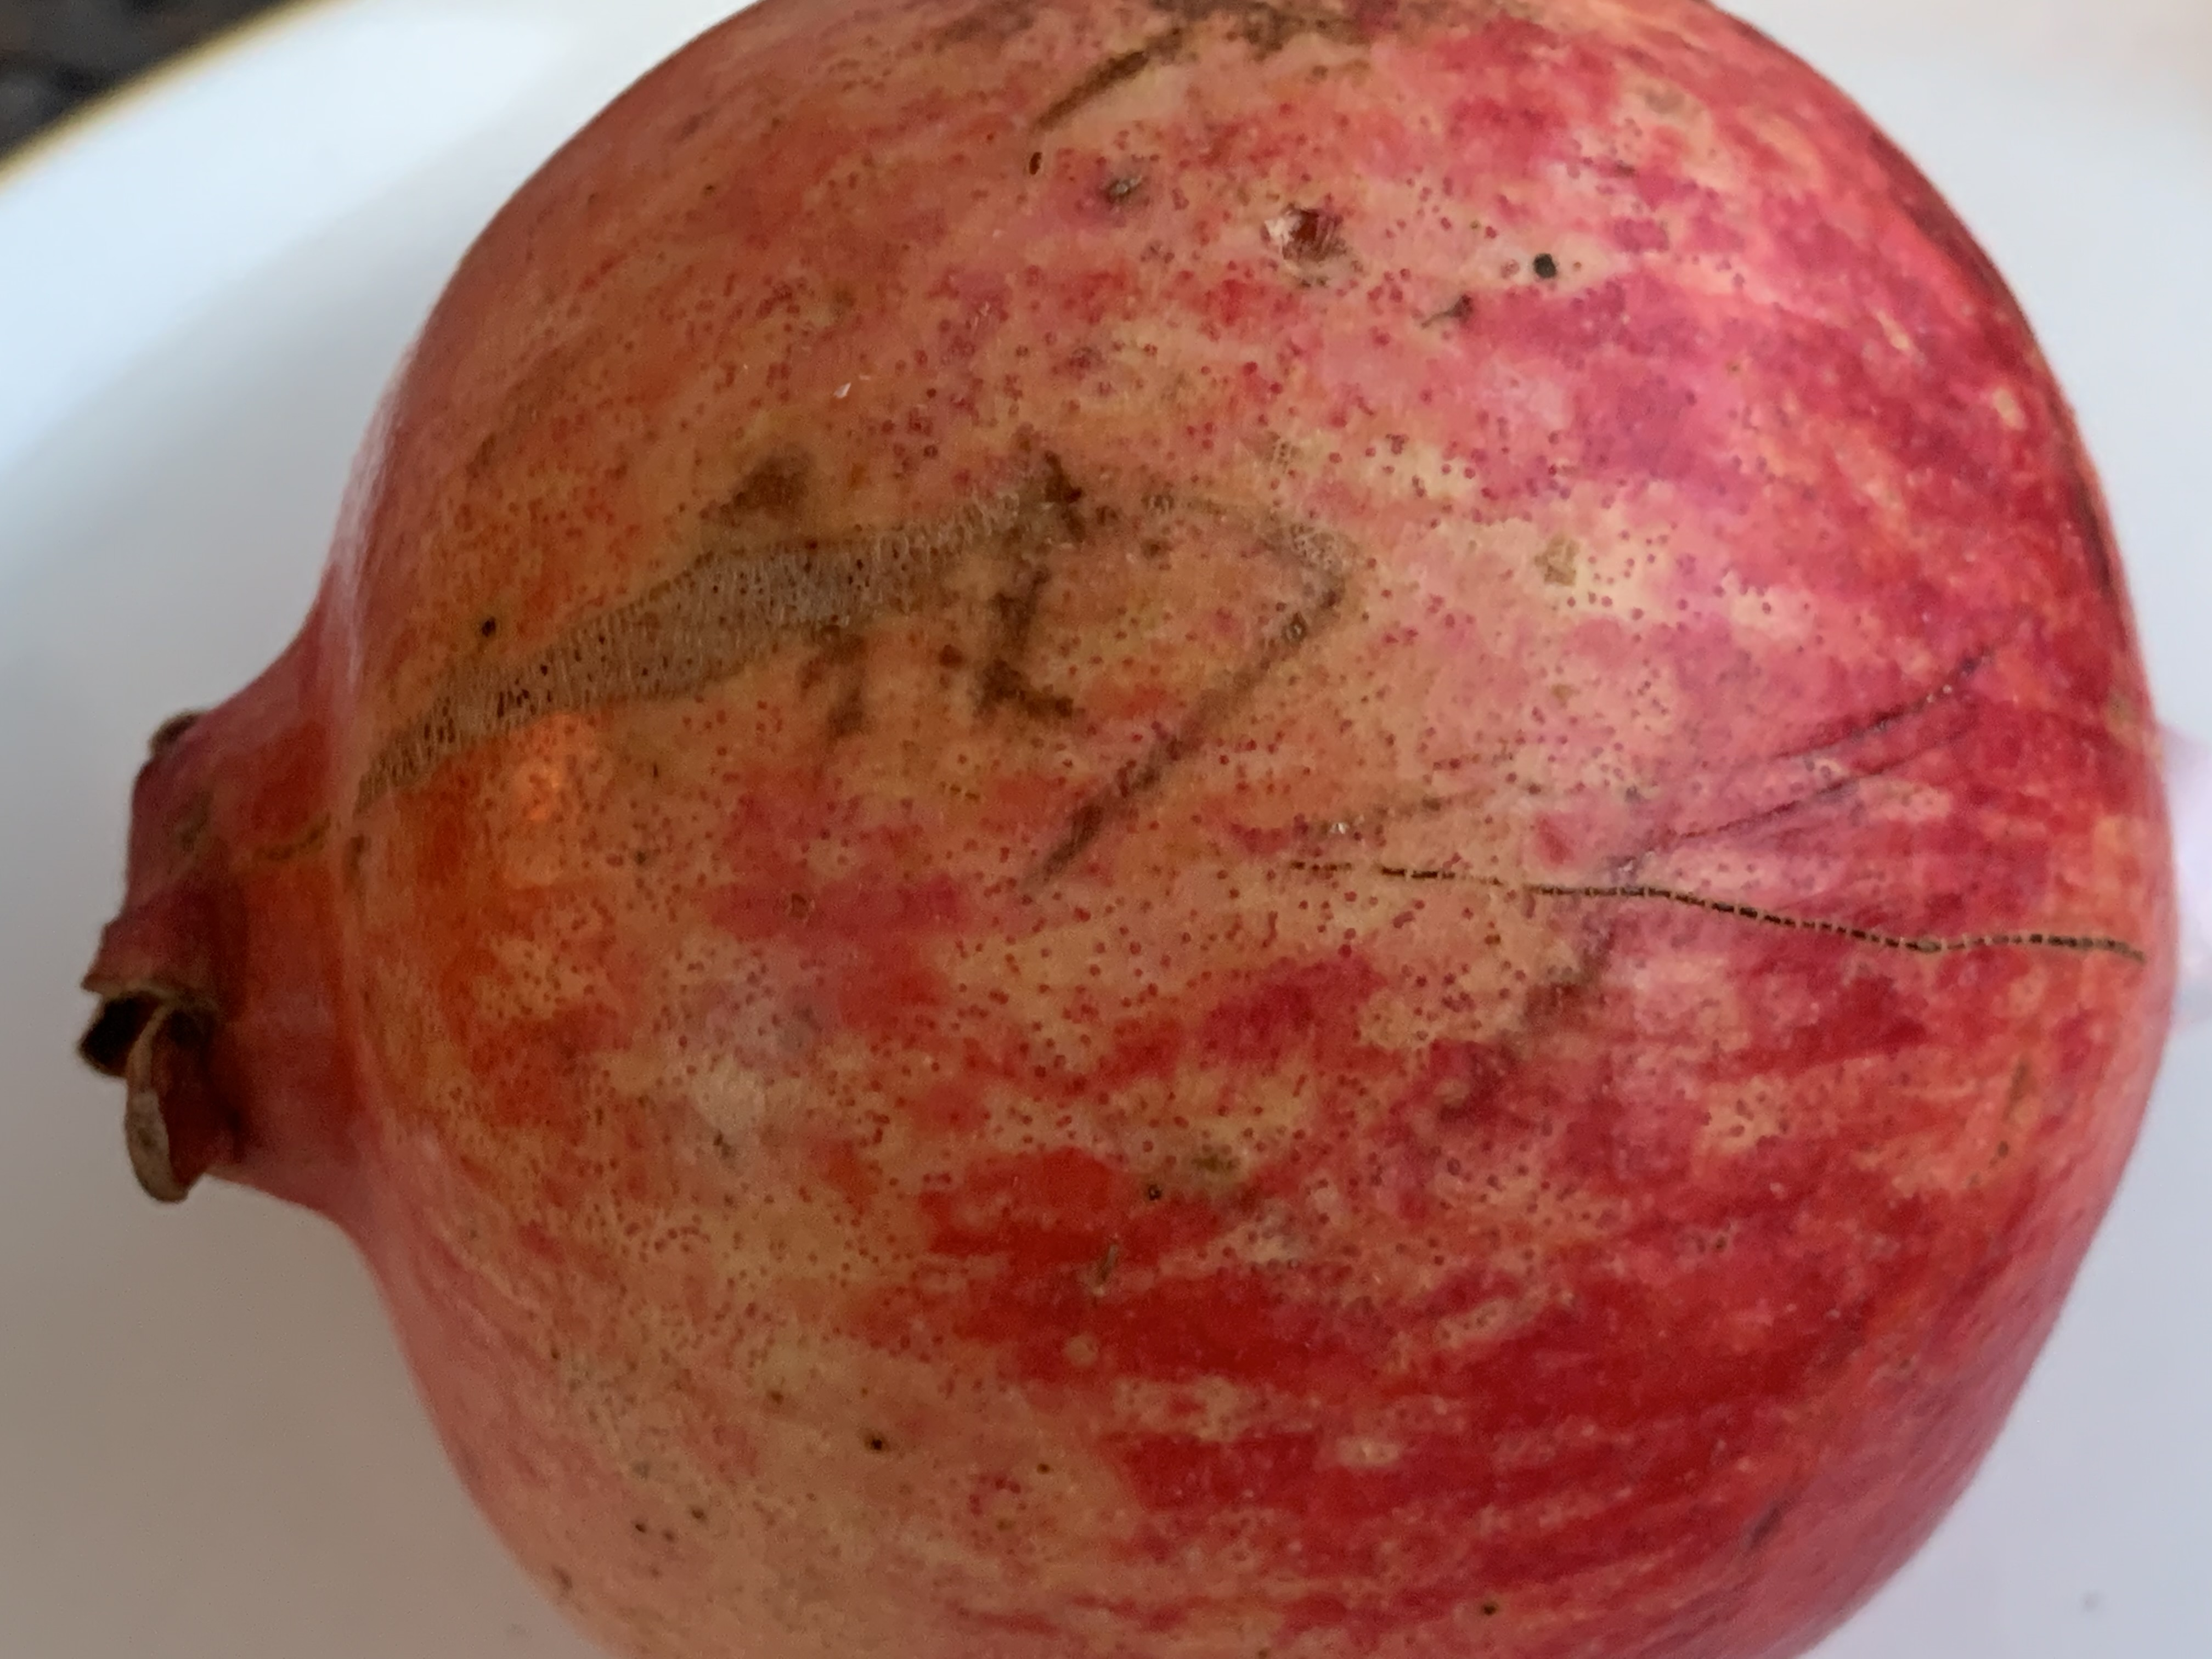Pomegranate: (84, 14, 2189, 1659)
